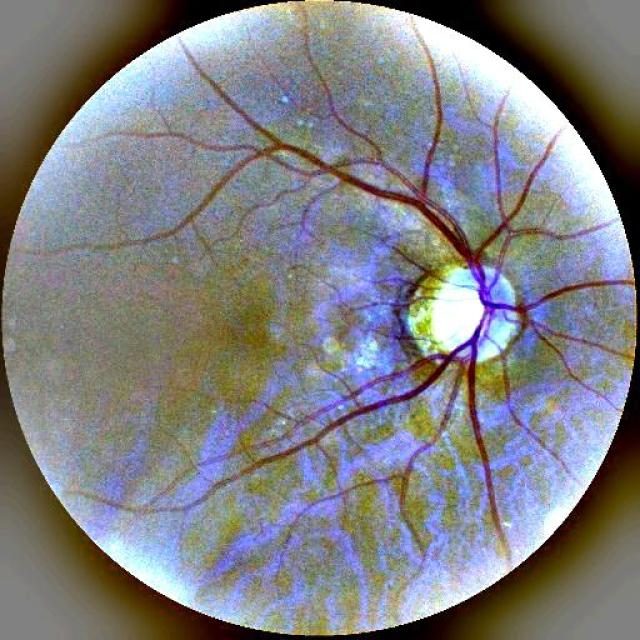Macula: (233, 312, 276, 348)
Nerves: (75, 30, 562, 546)
Optic Disk: (402, 266, 519, 361)
